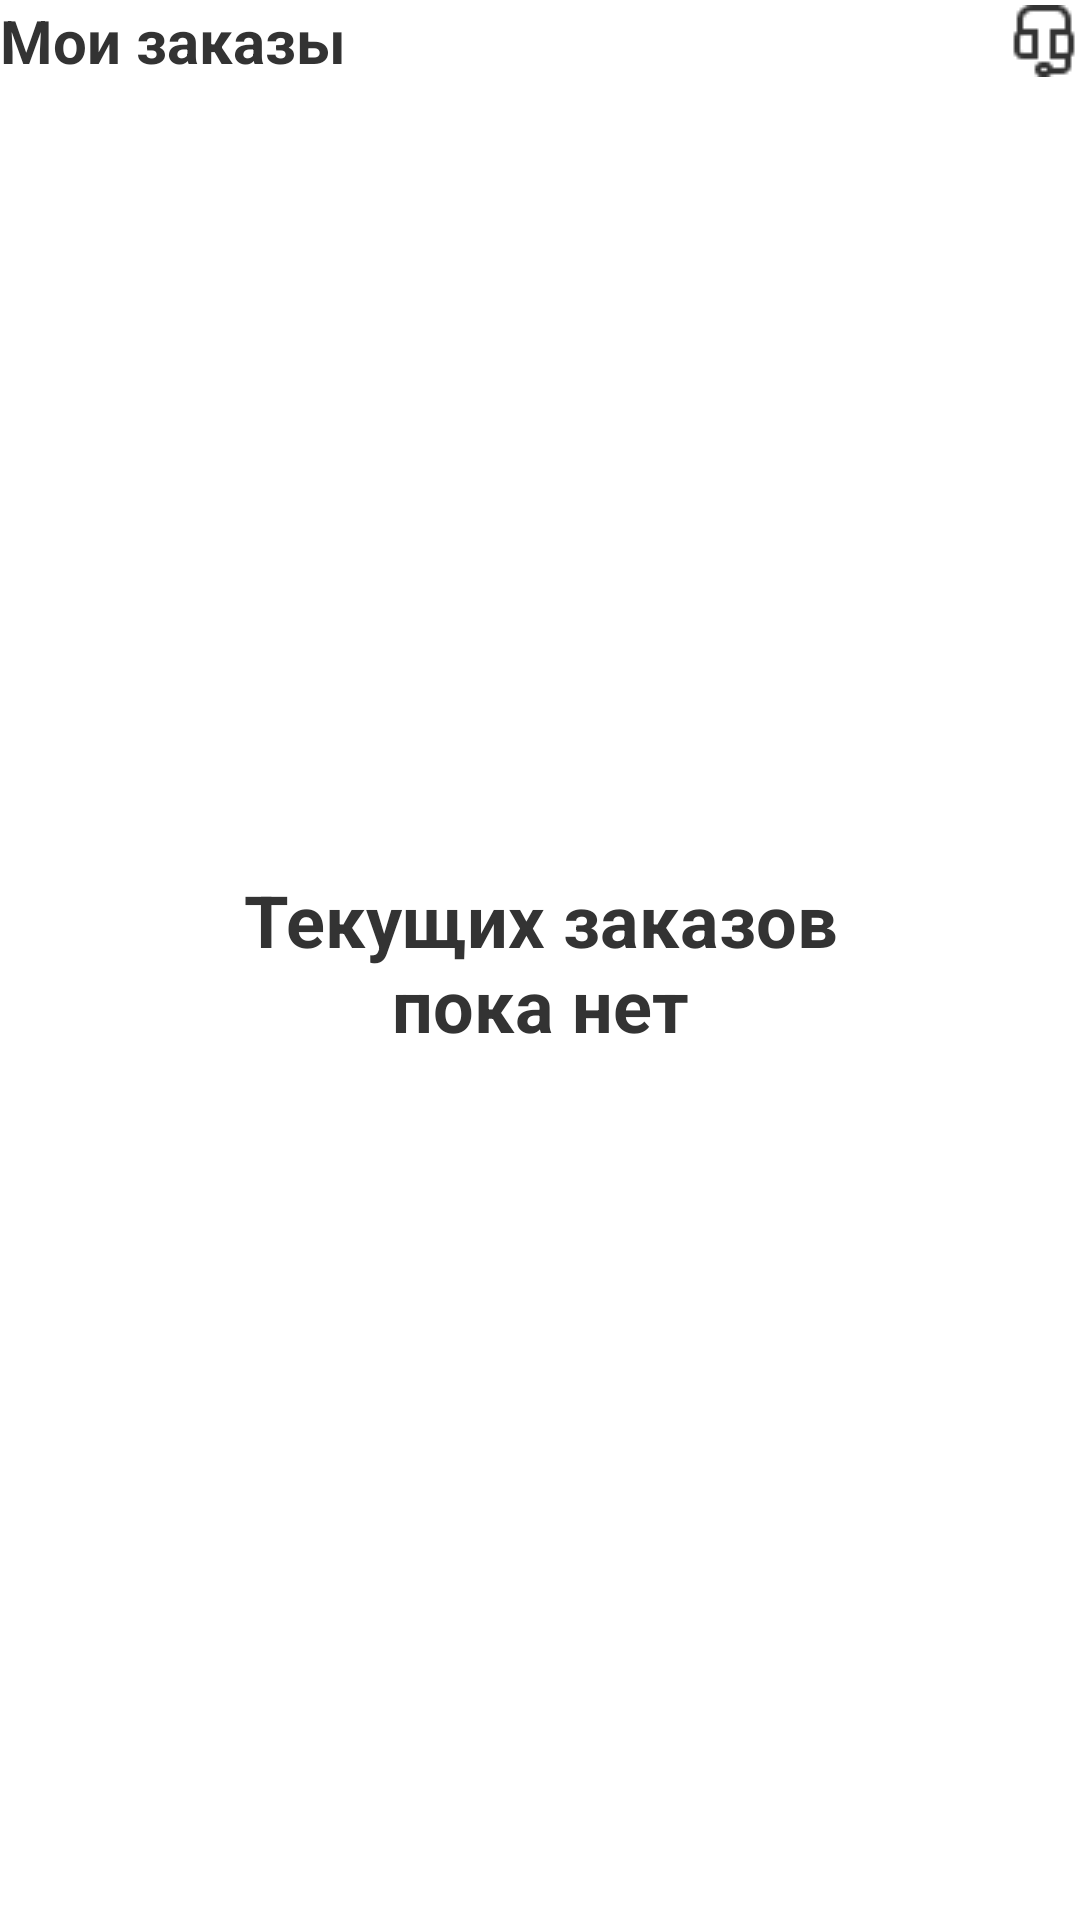

Where icons sit on this 1080 x 1920 app screen, as (x1, y1, x2, y2):
support pic: (1013, 5, 1075, 77)
